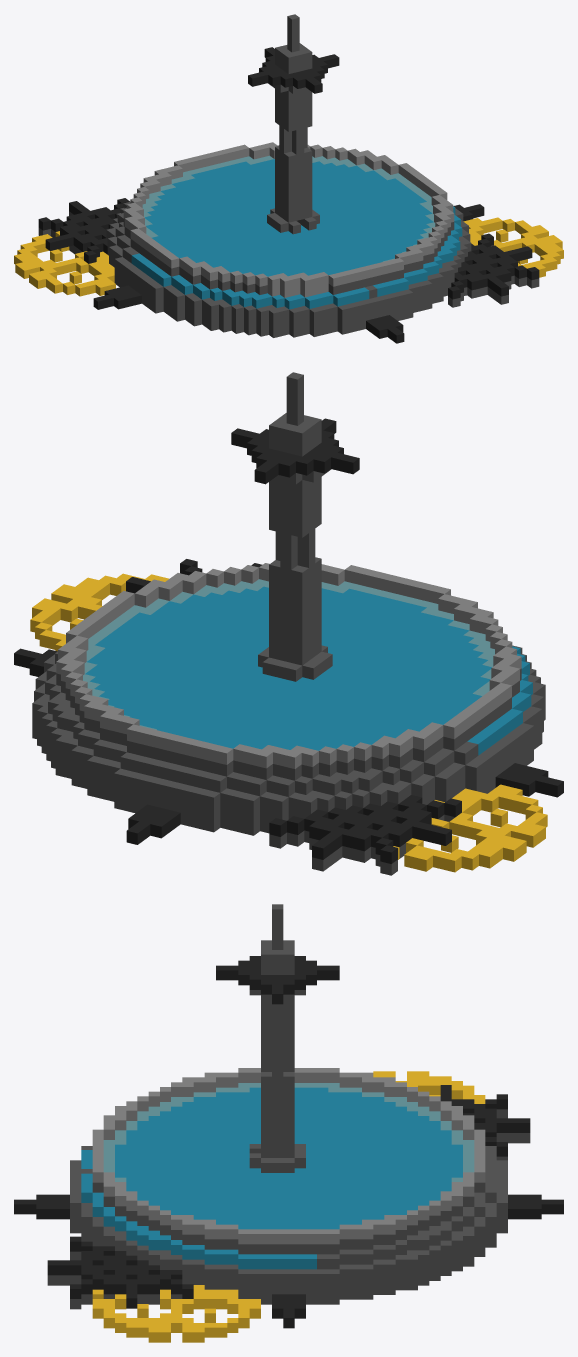
File: bunsudae.obj
The picture shows the model from 3 angles, top to bottom: view 1: azimuth 30°, elevation 25°; view 2: azimuth 150°, elevation 25°; view 3: azimuth 270°, elevation 25°; orthographic projection. The views are drawn at different scales.
Visible parts, largest first — view 1: bunsudae; view 2: bunsudae; view 3: bunsudae.
Boxes of the visible parts, x1,y1,x2,y2 form: bunsudae: (14,14,563,343); bunsudae: (14,372,563,875); bunsudae: (14,904,563,1342).
Bounding box in the file's own units: 55 × 30 × 49.
1 material, 1 textured.
